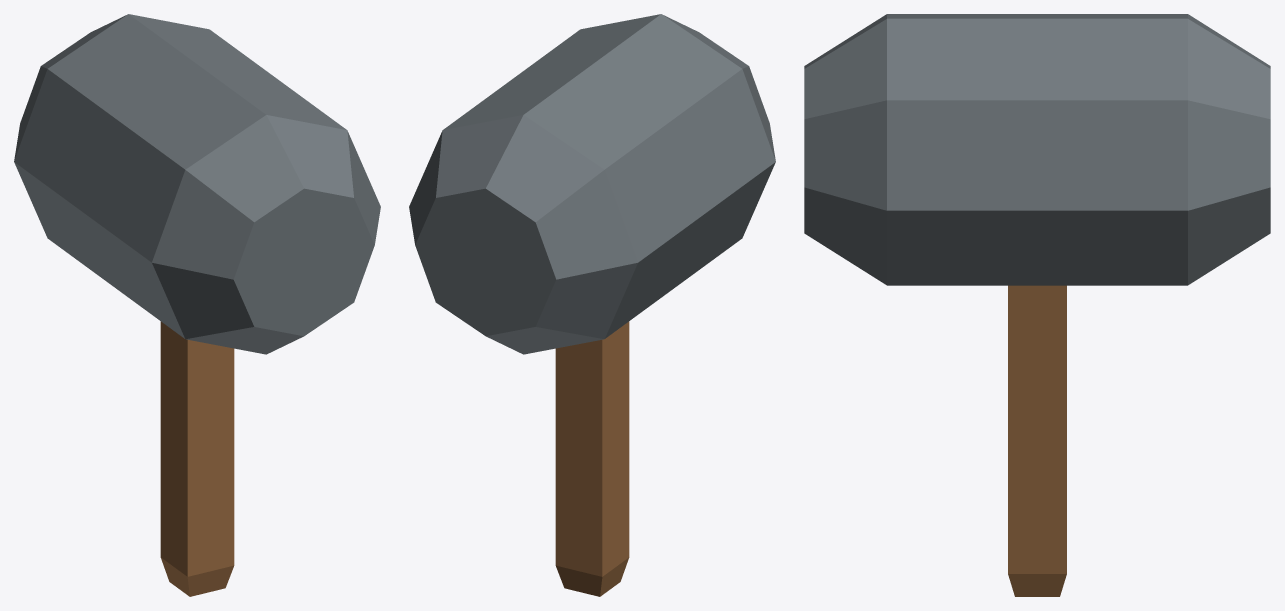
Rendered from MarteloLowPoly.fbx.
3 views of the same model, side by side, from view 1: azimuth 30°, elevation 25°; view 2: azimuth 150°, elevation 25°; view 3: azimuth 270°, elevation 25° (orthographic). The views are drawn at different scales.
Visible parts, largest first — view 1: Cube; view 2: Cube; view 3: Cube.
Boxes of the visible parts, x1=… form: Cube: x1=14, y1=14, x2=380, y2=596; Cube: x1=409, y1=14, x2=775, y2=596; Cube: x1=804, y1=14, x2=1270, y2=596.
Size of the model in its own units: 192 by 416 by 310.
